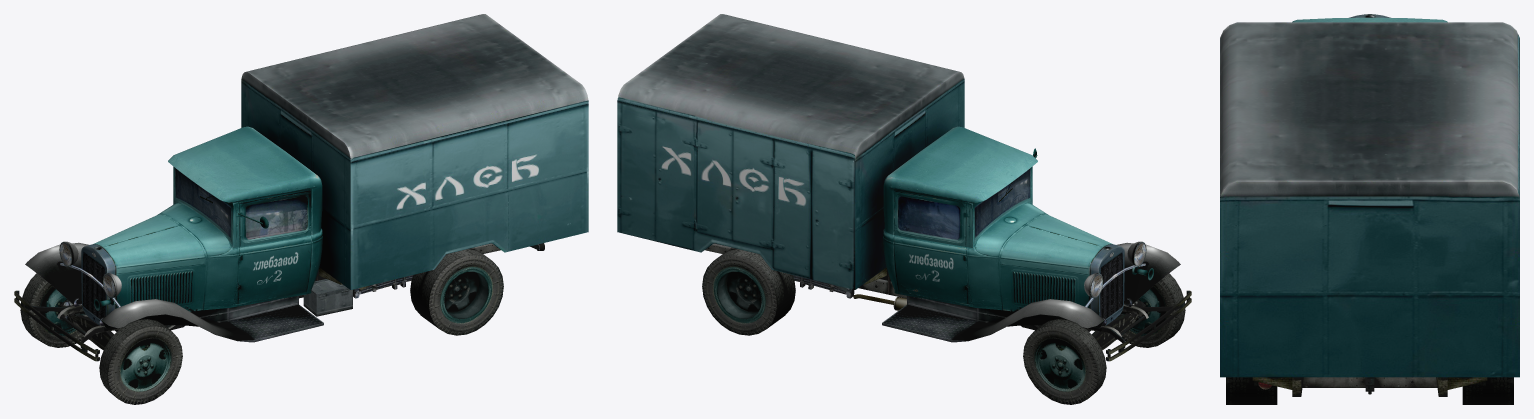
Rendered from gaz-aa_bread.FBX.
3 views of the same model, side by side, from view 1: azimuth 30°, elevation 25°; view 2: azimuth 150°, elevation 25°; view 3: azimuth 270°, elevation 25° (orthographic). The views are drawn at different scales.
Visible parts, largest first — view 1: gaz-aa_bread_furgon, gaz-aa_bread_cabin, gaz-aa_bread_wheel, gaz-aa_bread_wing, gaz-aa_bread_frame, gaz-aa_bread_detail; view 2: gaz-aa_bread_furgon, gaz-aa_bread_cabin, gaz-aa_bread_wheel, gaz-aa_bread_wing, gaz-aa_bread_frame; view 3: gaz-aa_bread_furgon, gaz-aa_bread_wheel, gaz-aa_bread_frame, gaz-aa_bread_cabin.
Part boxes in pixels (left/top/right/bottom): gaz-aa_bread_furgon: left=241, top=14, right=588, bottom=289; gaz-aa_bread_cabin: left=81, top=126, right=322, bottom=325; gaz-aa_bread_wheel: left=20, top=247, right=503, bottom=404; gaz-aa_bread_wing: left=25, top=241, right=323, bottom=342; gaz-aa_bread_frame: left=14, top=243, right=544, bottom=361; gaz-aa_bread_detail: left=238, top=213, right=352, bottom=316; gaz-aa_bread_furgon: left=617, top=14, right=964, bottom=289; gaz-aa_bread_cabin: left=883, top=126, right=1124, bottom=325; gaz-aa_bread_wheel: left=702, top=247, right=1185, bottom=404; gaz-aa_bread_wing: left=882, top=241, right=1180, bottom=342; gaz-aa_bread_frame: left=705, top=243, right=1191, bottom=361; gaz-aa_bread_furgon: left=1220, top=22, right=1519, bottom=389; gaz-aa_bread_wheel: left=1226, top=377, right=1513, bottom=404; gaz-aa_bread_frame: left=1258, top=377, right=1447, bottom=396; gaz-aa_bread_cabin: left=1292, top=14, right=1447, bottom=22.
Size of the model in its own units: 5207 by 2040 by 2244.
